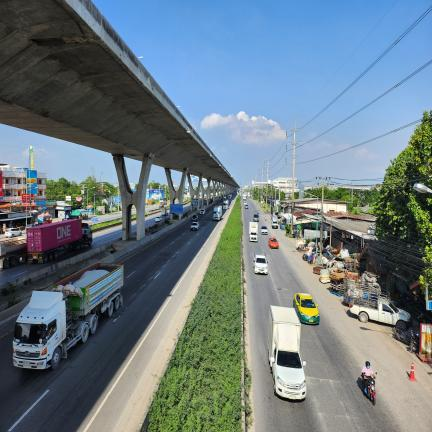car: (5, 228, 22, 237), (155, 215, 163, 222), (261, 226, 268, 234), (192, 214, 198, 221), (245, 203, 248, 209)
motorbike: (395, 327, 419, 353), (362, 375, 376, 405), (395, 326, 412, 345), (409, 330, 419, 353), (265, 215, 266, 220), (375, 373, 377, 375)
pickup: (253, 253, 268, 274), (25, 223, 39, 231), (191, 221, 199, 230)
taxi: (293, 293, 319, 324), (268, 237, 279, 248)
truck: (268, 306, 306, 400), (345, 281, 411, 330), (249, 222, 258, 242), (213, 206, 222, 221), (160, 205, 168, 217), (272, 215, 278, 228), (223, 198, 229, 209), (200, 205, 206, 214), (243, 194, 246, 200), (247, 192, 250, 197), (377, 284, 377, 285), (346, 282, 346, 283)
truck trailer: (13, 263, 123, 369), (27, 219, 92, 263), (0, 236, 27, 269)
van: (253, 214, 259, 221)
